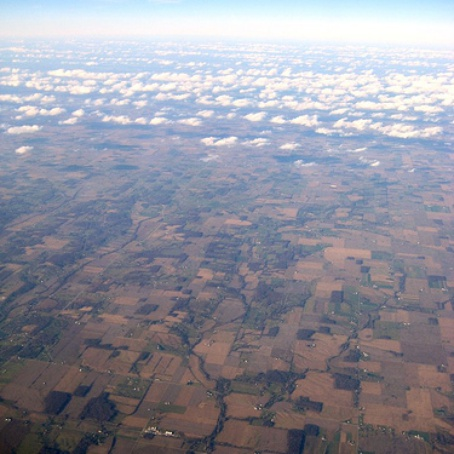sky: (1, 1, 446, 447)
